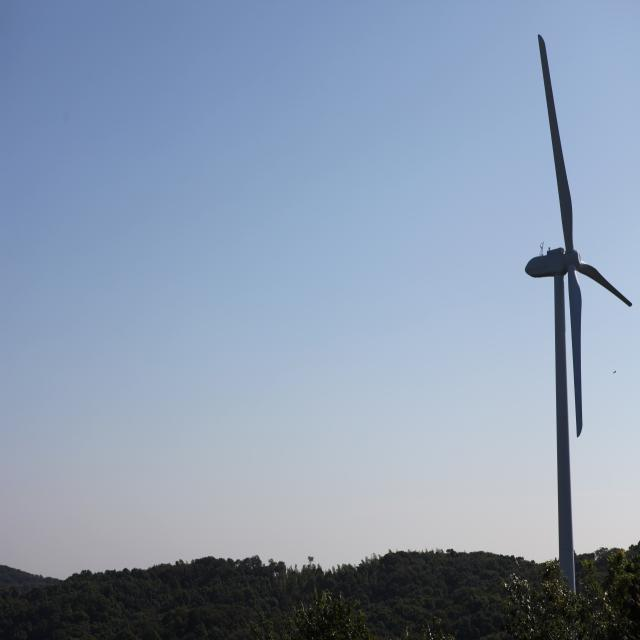bird: (611, 367, 618, 376)
